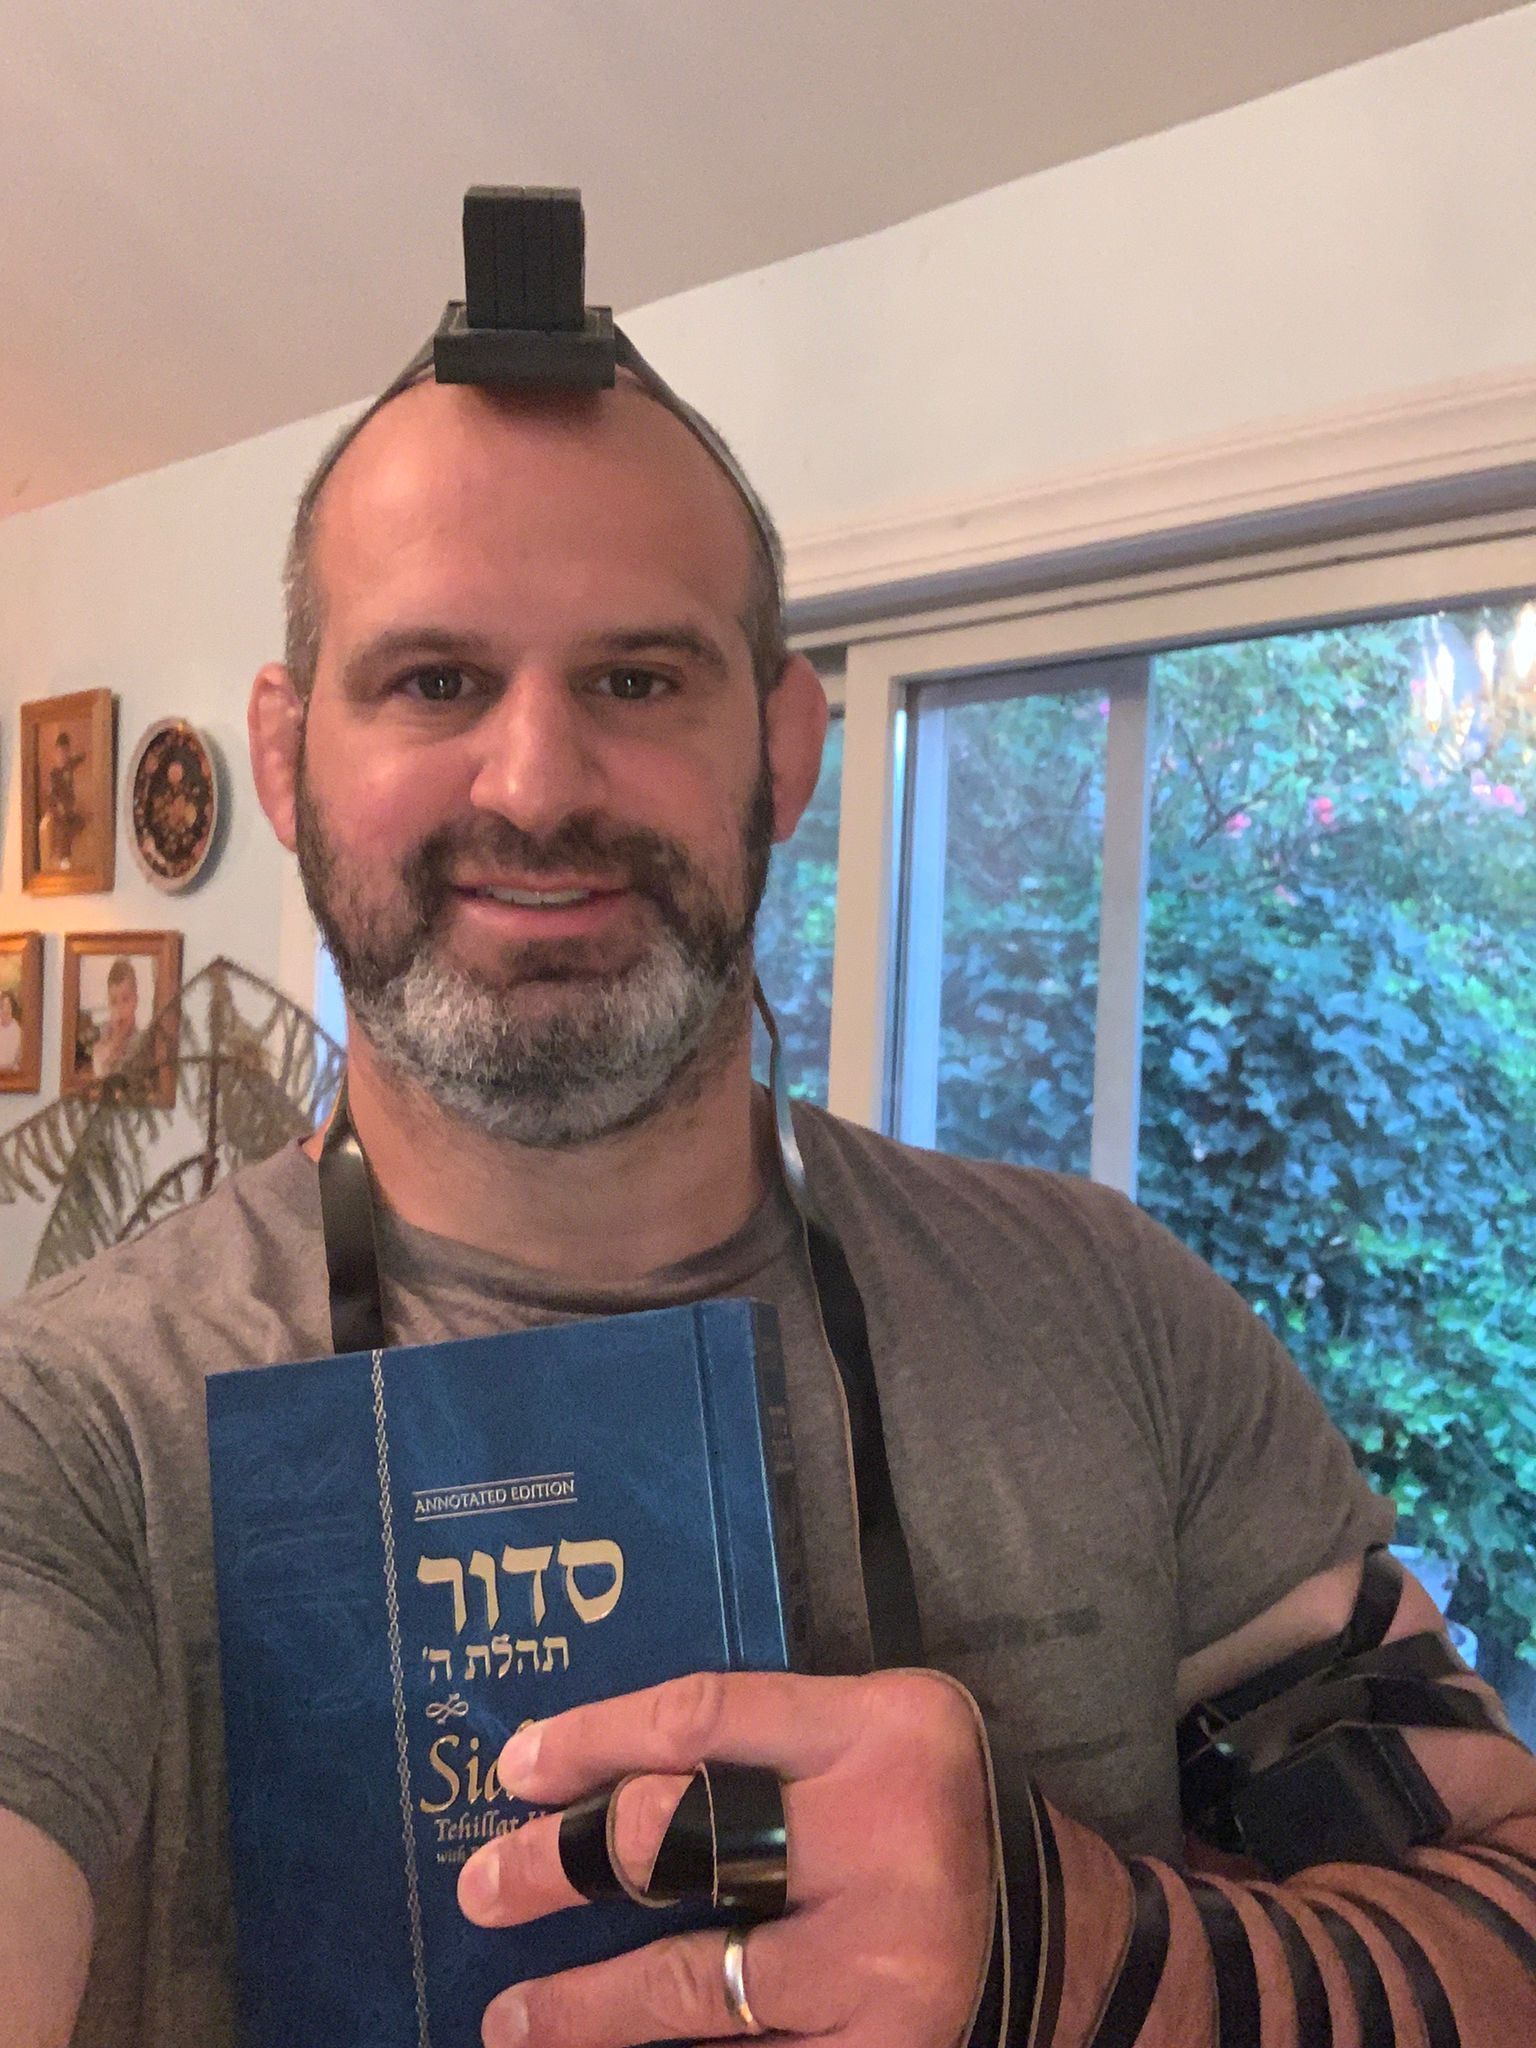tefillin: (1238, 1671, 1455, 1869), (431, 182, 618, 395)
